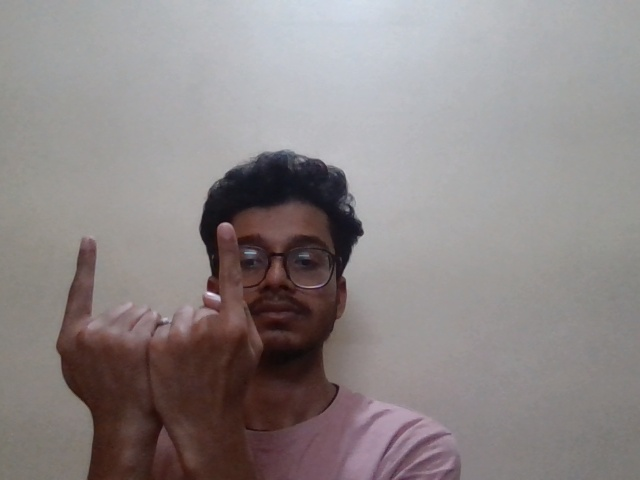when: (49, 218, 277, 427)
